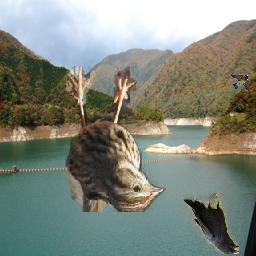Crow: (183, 194, 239, 255)
Sparrow: (66, 66, 167, 212)
Swallow: (230, 75, 250, 92)
